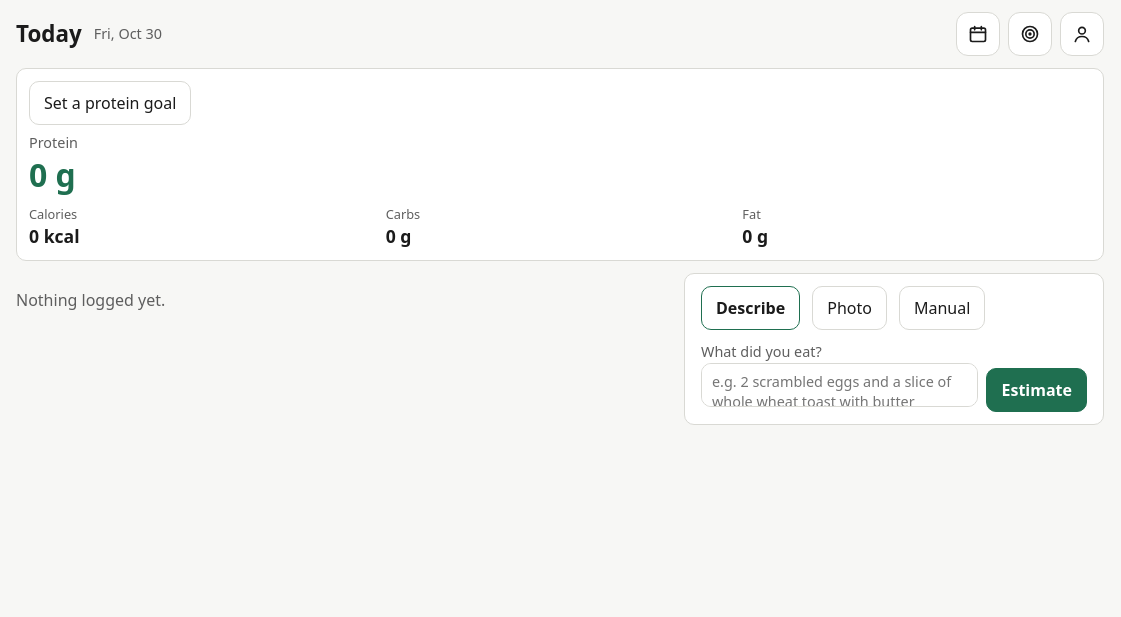
App shell › opens the Account view with sign-out options
Click the button named "account" at (1082, 34), box [1060,12,1104,56]
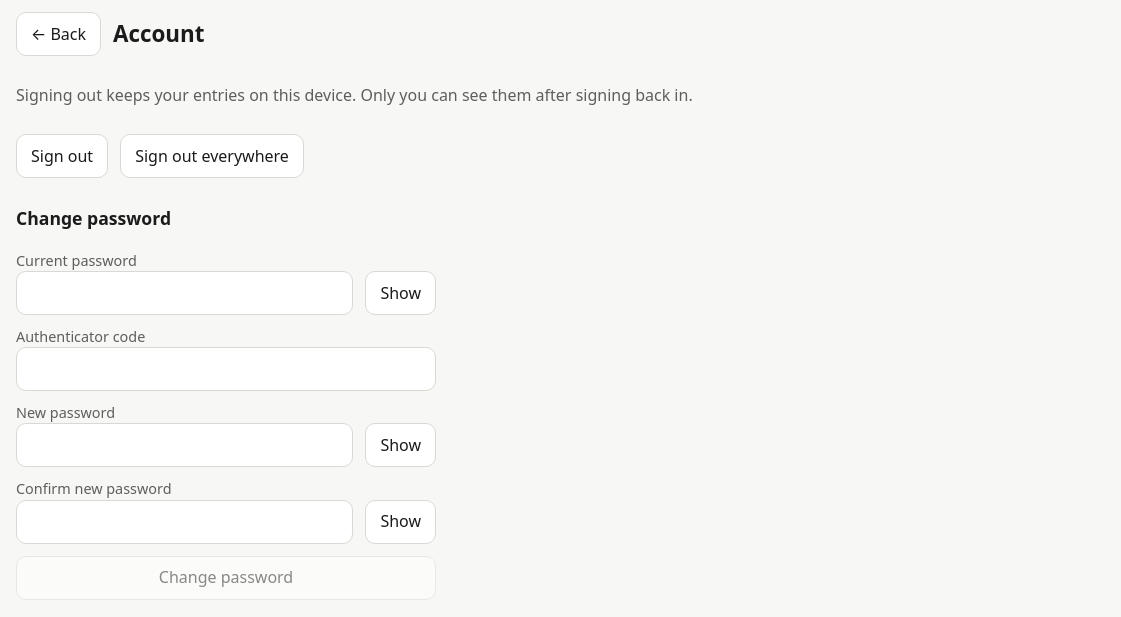
Check: the heading "Account" is shown, box [113,18,204,50]
Check: the button "Sign out" is shown, box [16,134,108,178]
Check: the button "Sign out everywhere" is shown, box [120,134,304,178]
